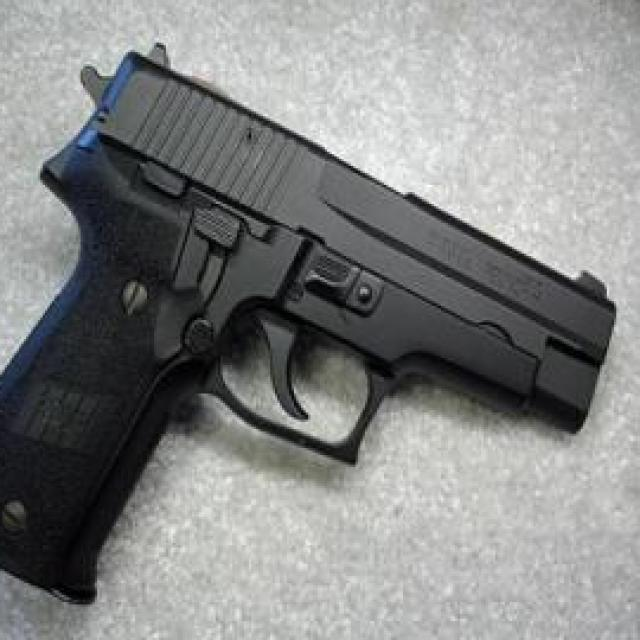pistol: (0, 40, 628, 609)
